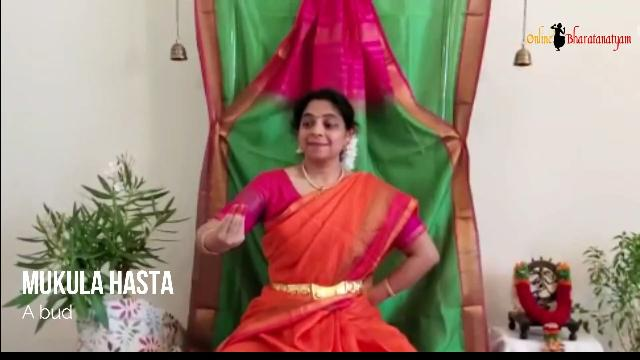mukul: (192, 192, 252, 270), (226, 226, 227, 229)
